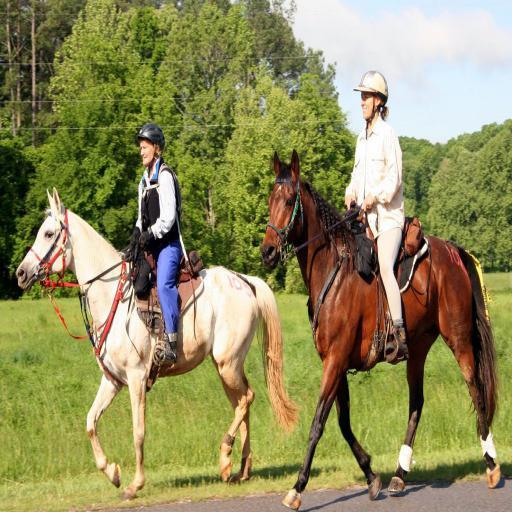horse: (14, 184, 302, 512), (257, 146, 501, 512)
